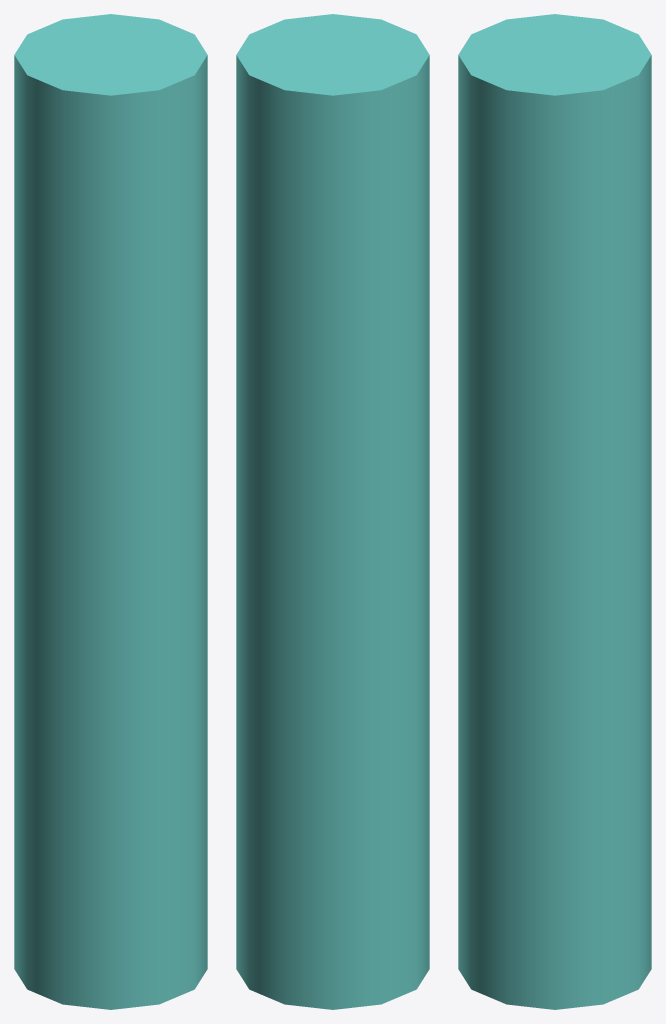
The model's file is WaterCanIndicator.fbx.
The picture shows the model from 3 angles, left to right: view 1: azimuth 30°, elevation 25°; view 2: azimuth 150°, elevation 25°; view 3: azimuth 270°, elevation 25°; orthographic projection.
Visible parts, largest first — view 1: WateringCanIndicator; view 2: WateringCanIndicator; view 3: WateringCanIndicator.
Boxes of the visible parts, x1,y1,x2,y2 form: WateringCanIndicator: [14, 14, 207, 1009]; WateringCanIndicator: [236, 14, 429, 1009]; WateringCanIndicator: [458, 14, 651, 1009].
Bounding box in the file's own units: 16 × 83.49 × 16.
